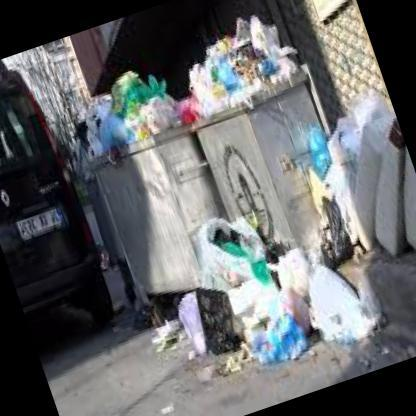Garbage: (180, 266, 346, 405), (166, 2, 310, 123), (191, 206, 294, 372), (288, 262, 400, 386), (290, 118, 372, 280), (70, 61, 188, 156), (291, 194, 362, 286), (260, 224, 315, 308), (144, 301, 197, 378), (241, 12, 290, 63), (127, 85, 172, 136), (178, 62, 216, 107)
